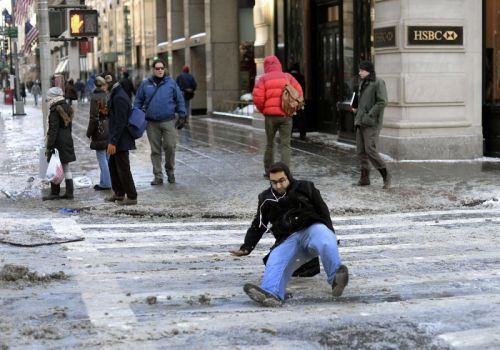10+: (3, 52, 406, 217)
down: (219, 164, 355, 310)
